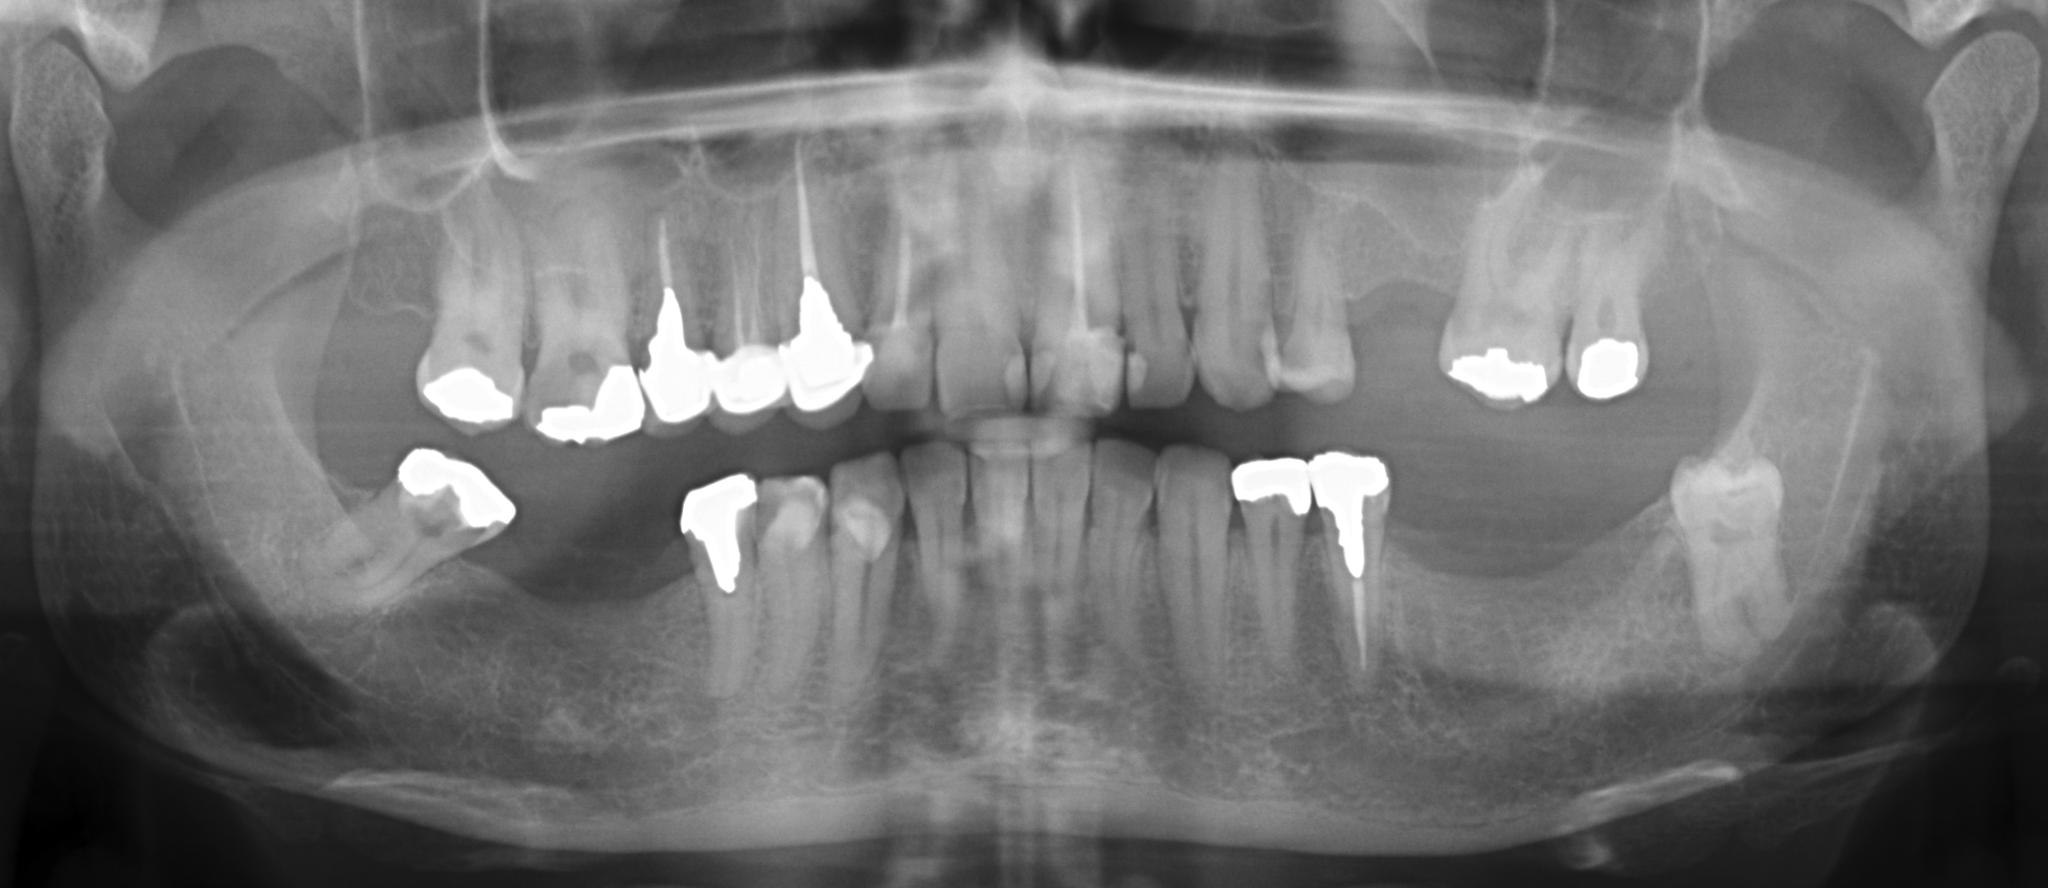Fillings: (660, 469, 832, 708), (316, 444, 516, 626), (410, 204, 533, 435), (524, 213, 641, 448), (1434, 206, 1562, 411), (1561, 217, 1657, 410), (1230, 452, 1307, 673)
Implant: (1309, 434, 1401, 691), (777, 171, 871, 423), (636, 185, 717, 436), (708, 182, 786, 427)
